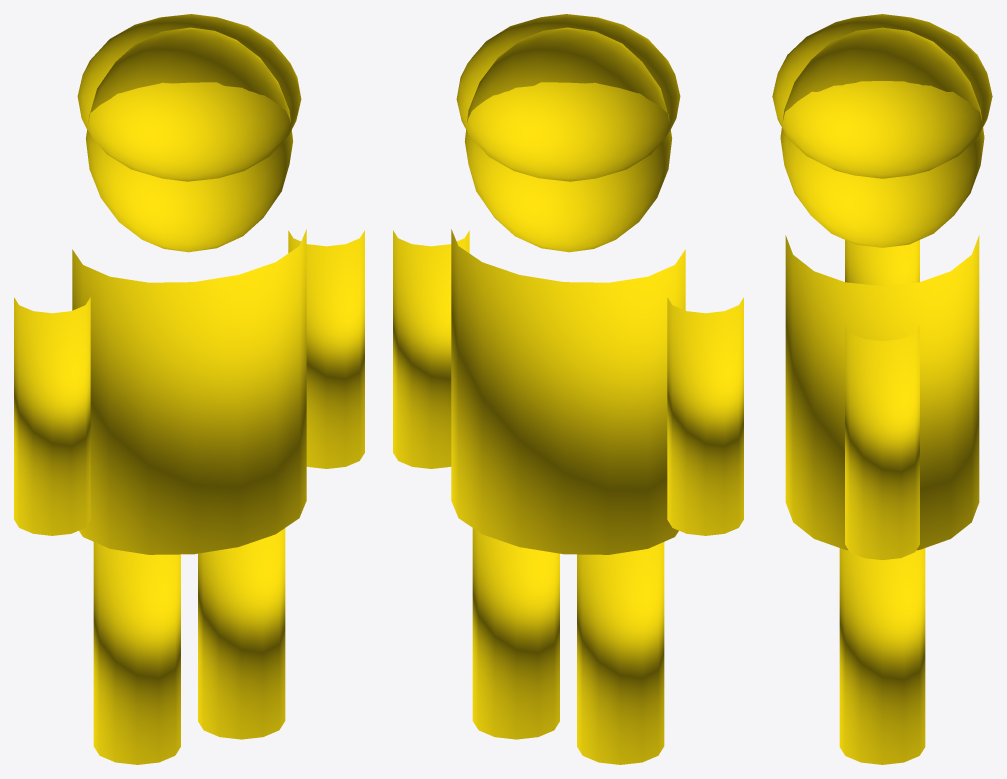
File: sky.glb
3 renders of one model, left to right at view 1: azimuth 30°, elevation 25°; view 2: azimuth 150°, elevation 25°; view 3: azimuth 270°, elevation 25°, orthographic.
Visible parts, largest first — view 1: YoungAdultMaleMesh; view 2: YoungAdultMaleMesh; view 3: YoungAdultMaleMesh.
Part boxes in pixels (x1,y1,x2,y2): YoungAdultMaleMesh: (14,14,364,764); YoungAdultMaleMesh: (393,14,743,764); YoungAdultMaleMesh: (772,14,992,764).
Size of the model in its own units: 1.44 by 2.85 by 0.82.
